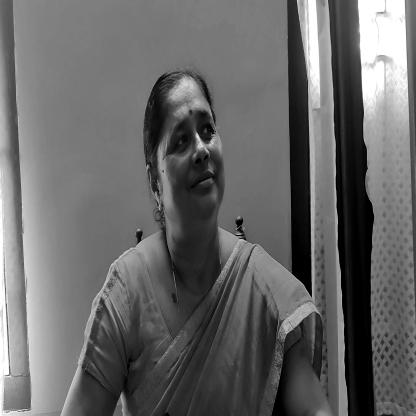Distracted: (147, 71, 231, 239)
